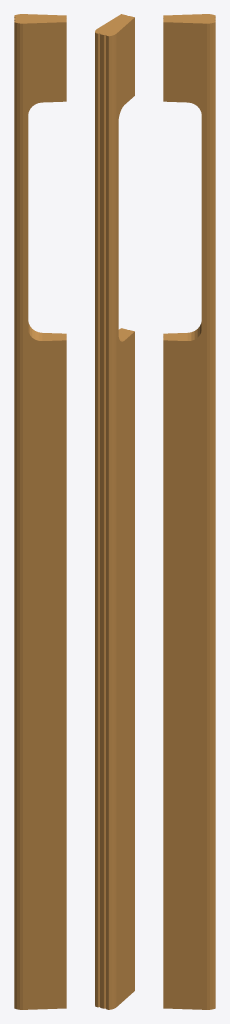
File: 204 pvd gold.glb
The picture shows the model from 3 angles, left to right: view 1: azimuth 90°, elevation 25°; view 2: azimuth 150°, elevation 25°; view 3: azimuth 270°, elevation 25°; orthographic projection.
Visible parts, largest first — view 1: CABINET_HANDLE_204; view 2: CABINET_HANDLE_204; view 3: CABINET_HANDLE_204.
Part boxes in pixels (x1=…): CABINET_HANDLE_204: x1=14, y1=14, x2=66, y2=1009; CABINET_HANDLE_204: x1=95, y1=14, x2=134, y2=1009; CABINET_HANDLE_204: x1=163, y1=14, x2=215, y2=1009.
Size of the model in its own units: 0.1468 by 7 by 0.3387.
